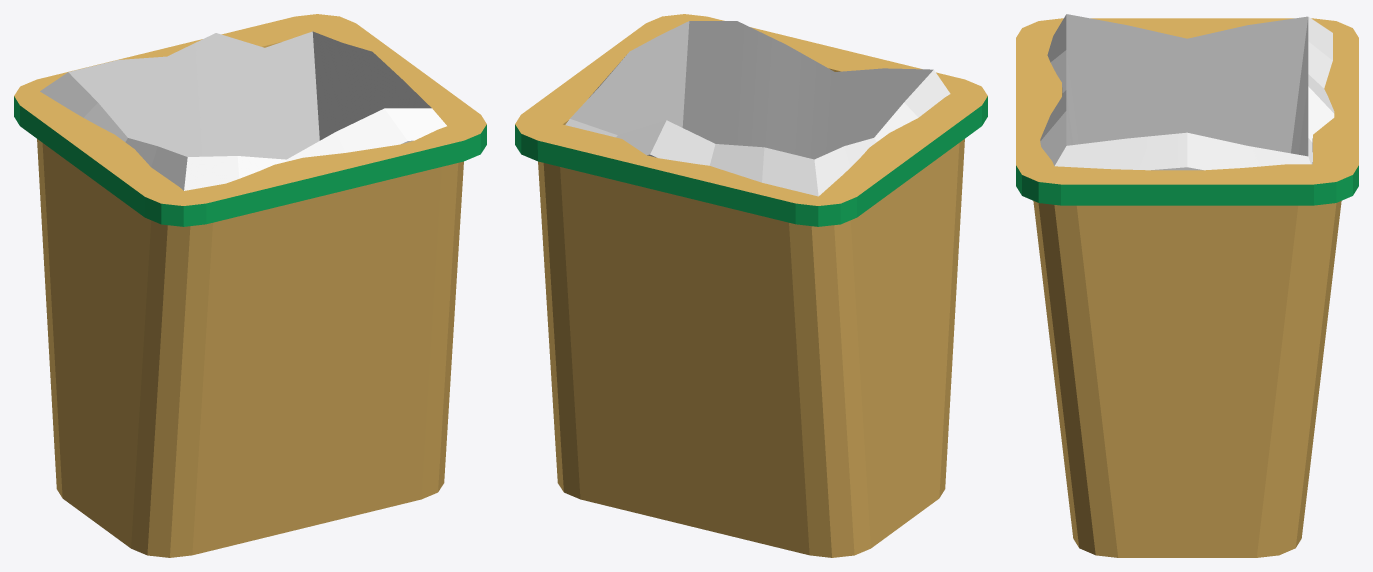
Rendered from Bin.fbx.
3 renders of one model, left to right at view 1: azimuth 30°, elevation 25°; view 2: azimuth 150°, elevation 25°; view 3: azimuth 270°, elevation 25°, orthographic.
Parts seen in each view (by area): view 1: Cylinder, Bin_Liner; view 2: Cylinder, Bin_Liner; view 3: Cylinder, Bin_Liner.
Boxes of the visible parts, bbox=[...] form: Cylinder: bbox=[14, 14, 486, 557]; Bin_Liner: bbox=[40, 31, 446, 190]; Cylinder: bbox=[515, 14, 987, 557]; Bin_Liner: bbox=[565, 21, 950, 196]; Cylinder: bbox=[1016, 18, 1358, 557]; Bin_Liner: bbox=[1040, 14, 1334, 170].
Size of the model in its own units: 59.96 by 68.99 by 52.34.
